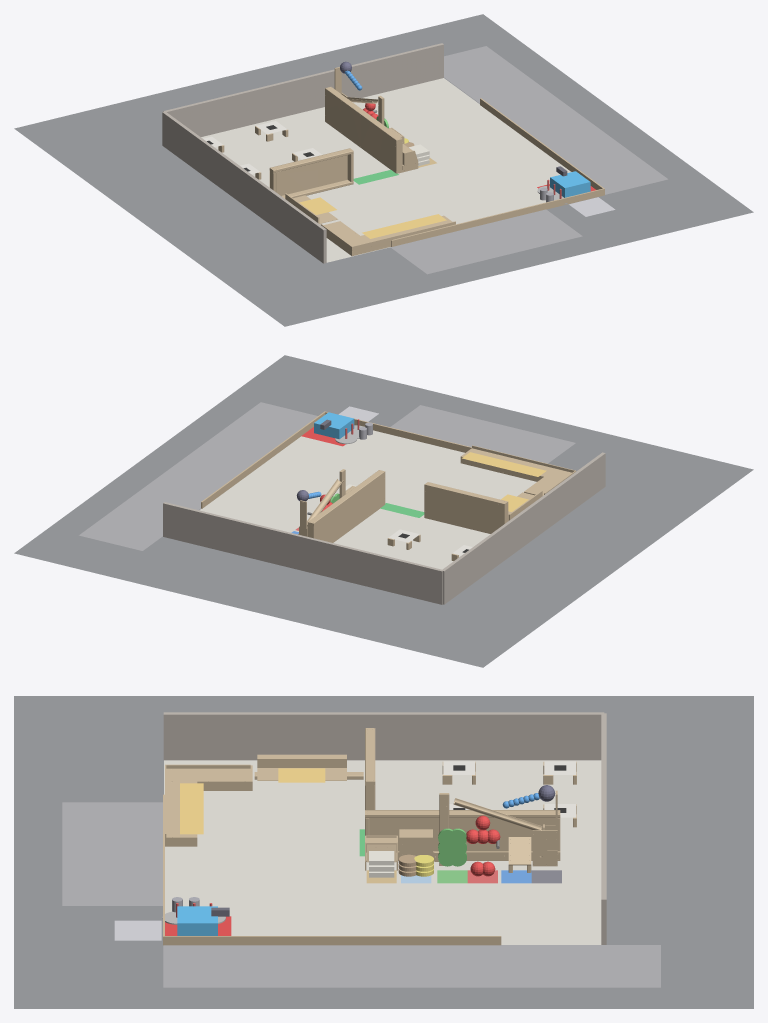
File: field.glb
3 renders of one model, top to bottom at view 1: azimuth 30°, elevation 25°; view 2: azimuth 150°, elevation 25°; view 3: azimuth 270°, elevation 25°, orthographic. The views are drawn at different scales.
Visible parts, largest first — view 1: GroundOuter, FieldStructure, Floor, DriverBox_Tile, SpotterBox_Tile, Robot_Chassis, WarmingShelf, QCA_Tile; view 2: GroundOuter, FieldStructure, Floor, DriverBox_Tile, SpotterBox_Tile, Robot_Chassis, WarmingShelf; view 3: GroundOuter, Floor, FieldStructure, DriverBox_Tile, SpotterBox_Tile, WarmingShelf, Robot_Chassis, QCA_Tile, BalanceBuffetShelf.
Part boxes in pixels (box(x1,y1,x2,y2)): GroundOuter: box(14, 14, 753, 326); FieldStructure: box(162, 43, 604, 263); Floor: box(201, 78, 571, 262); DriverBox_Tile: box(444, 46, 667, 194); SpotterBox_Tile: box(391, 209, 582, 274); Robot_Chassis: box(550, 171, 590, 197); WarmingShelf: box(362, 214, 446, 238); QCA_Tile: box(569, 197, 615, 216); GroundOuter: box(14, 355, 753, 667); FieldStructure: box(163, 411, 605, 604); Floor: box(199, 430, 536, 569); DriverBox_Tile: box(79, 402, 317, 550); SpotterBox_Tile: box(390, 405, 575, 463); Robot_Chassis: box(314, 412, 354, 439); WarmingShelf: box(462, 452, 546, 476); GroundOuter: box(14, 696, 753, 1008); Floor: box(164, 760, 601, 944); FieldStructure: box(163, 712, 606, 945); DriverBox_Tile: box(163, 945, 660, 987); SpotterBox_Tile: box(62, 802, 162, 905); WarmingShelf: box(180, 783, 203, 834); Robot_Chassis: box(177, 906, 217, 935); QCA_Tile: box(114, 920, 161, 940); BalanceBuffetShelf: box(278, 768, 325, 782).
Size of the model in its own units: 22 by 2.66 by 22.
